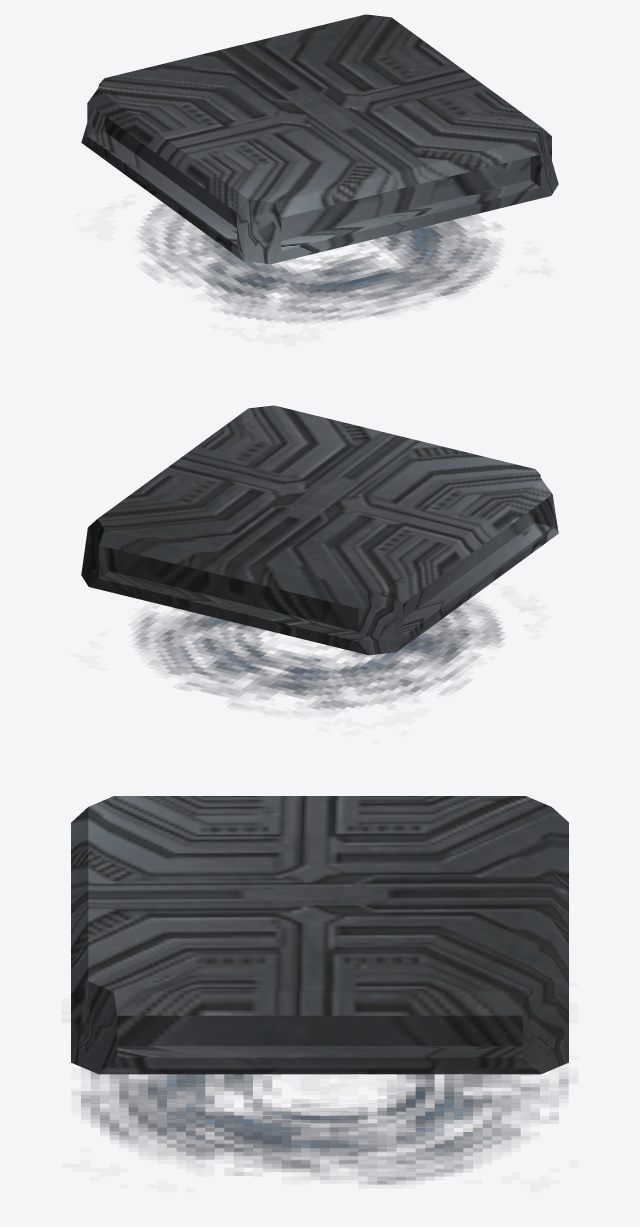
Rendered from platformdefault3.glb.
3 views of the same model, one above another, from view 1: azimuth 30°, elevation 25°; view 2: azimuth 150°, elevation 25°; view 3: azimuth 270°, elevation 25° (orthographic). The views are drawn at different scales.
Visible parts, largest first — view 1: box; view 2: box; view 3: box.
Boxes of the visible parts, box(x1,y1,x2,y2) form: box: box(81, 14, 558, 322); box: box(81, 405, 558, 709); box: box(71, 796, 568, 1184).
Size of the model in its own units: 25.42 by 8.69 by 25.42.
Materials: 2 (2 with a texture image).
